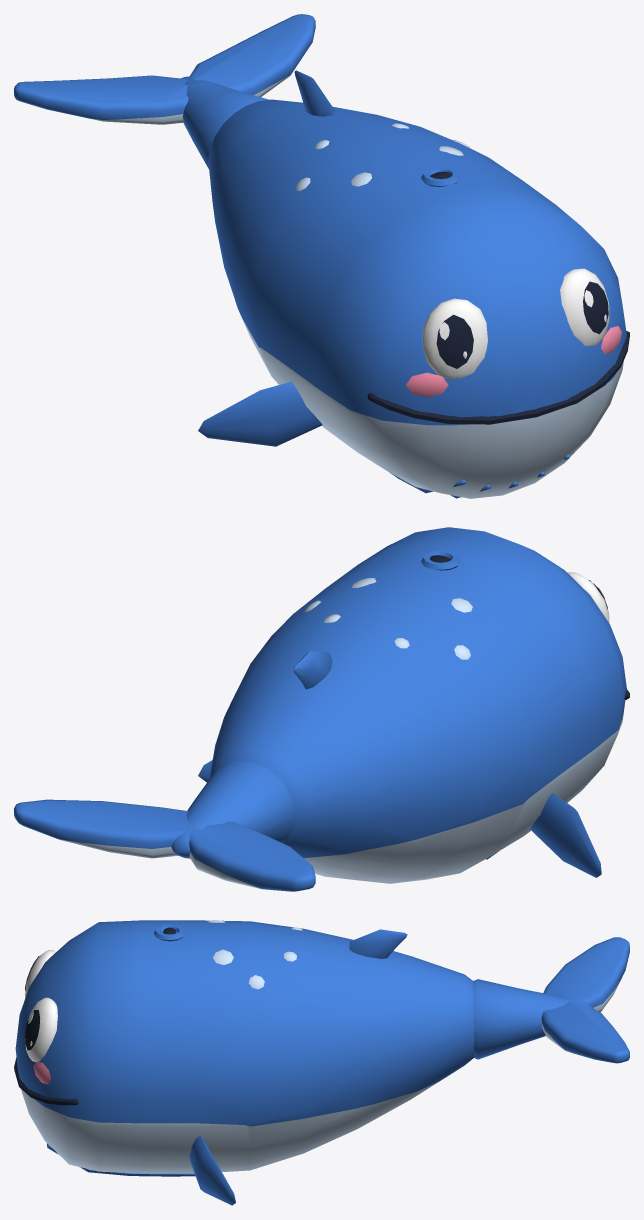
Rendered from whale.glb.
3 renders of one model, top to bottom at view 1: azimuth 30°, elevation 25°; view 2: azimuth 150°, elevation 25°; view 3: azimuth 270°, elevation 25°, orthographic. The views are drawn at different scales.
Parts seen in each view (by area): view 1: body, tail; view 2: body, tail; view 3: body, tail.
Part boxes in pixels (x1,y1,x2,y2): body: [198, 70, 629, 498]; tail: [14, 14, 315, 168]; body: [198, 527, 629, 883]; tail: [14, 761, 315, 891]; body: [14, 920, 474, 1205]; tail: [473, 937, 629, 1063].
Bounding box in the file's own units: 2.82 × 1.94 × 4.6.
